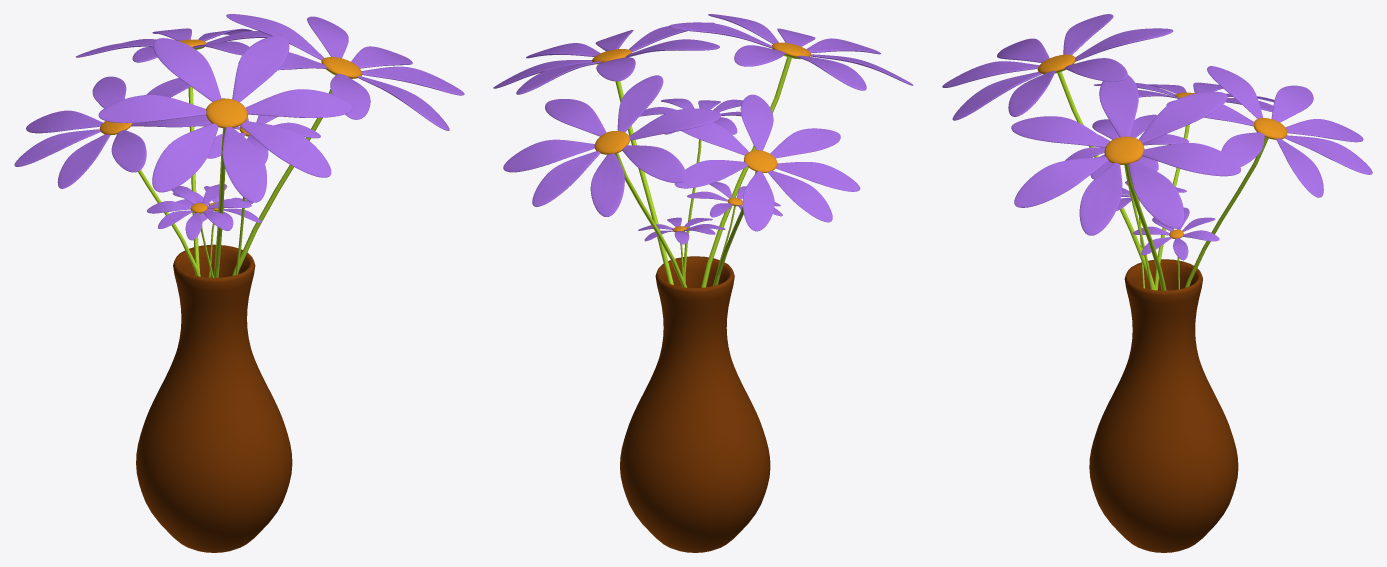
File: flowervase.fbx
3 views of the same model, side by side, from view 1: azimuth 30°, elevation 25°; view 2: azimuth 150°, elevation 25°; view 3: azimuth 270°, elevation 25° (orthographic). The views are drawn at different scales.
Parts seen in each view (by area): view 1: Vase, Cube.002, Cube.001, Cube.003, Cube, Cube.005, Cube.004, Cube.006; view 2: Vase, Cube, Cube.003, Cube.002, Cube.001, Cube.004, Cube.005, Cube.006; view 3: Vase, Cube.001, Cube, Cube.002, Cube.004, Cube.006, Cube.003.
Boxes of the visible parts, x1=… form: Vase: x1=136, y1=244, x2=292, y2=552; Cube.002: x1=98, y1=35, x2=352, y2=277; Cube.001: x1=226, y1=14, x2=464, y2=275; Cube.003: x1=14, y1=76, x2=210, y2=276; Cube: x1=76, y1=28, x2=271, y2=275; Cube.005: x1=147, y1=184, x2=251, y2=277; Cube.004: x1=194, y1=98, x2=320, y2=274; Cube.006: x1=172, y1=186, x2=261, y2=277; Vase: x1=620, y1=256, x2=770, y2=552; Cube: x1=503, y1=75, x2=721, y2=287; Cube.003: x1=674, y1=94, x2=860, y2=285; Cube.002: x1=669, y1=14, x2=913, y2=287; Cube.001: x1=493, y1=22, x2=719, y2=284; Cube.004: x1=639, y1=98, x2=742, y2=282; Cube.005: x1=687, y1=182, x2=782, y2=285; Cube.006: x1=638, y1=217, x2=725, y2=278; Vase: x1=1089, y1=259, x2=1238, y2=552; Cube.001: x1=1011, y1=75, x2=1240, y2=290; Cube: x1=1166, y1=66, x2=1372, y2=287; Cube.002: x1=942, y1=14, x2=1173, y2=290; Cube.004: x1=1065, y1=114, x2=1189, y2=289; Cube.006: x1=1133, y1=207, x2=1219, y2=289; Cube.003: x1=1094, y1=82, x2=1274, y2=290.
Size of the model in its own units: 468 by 598 by 479.
